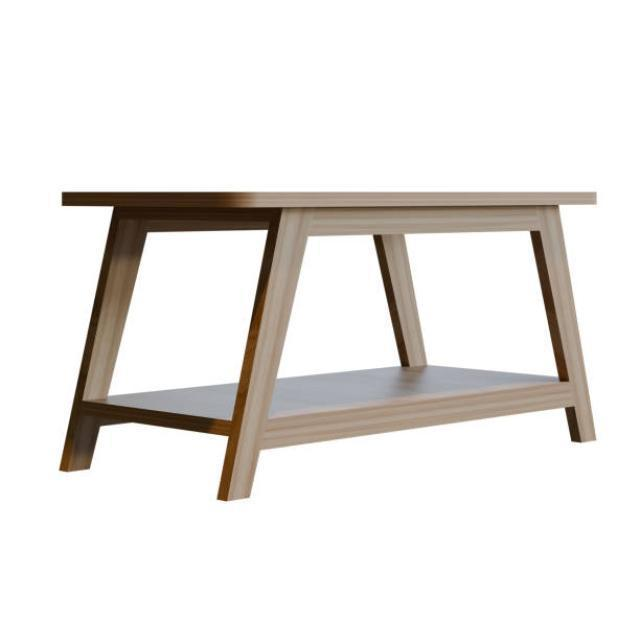table: (57, 189, 598, 501)
